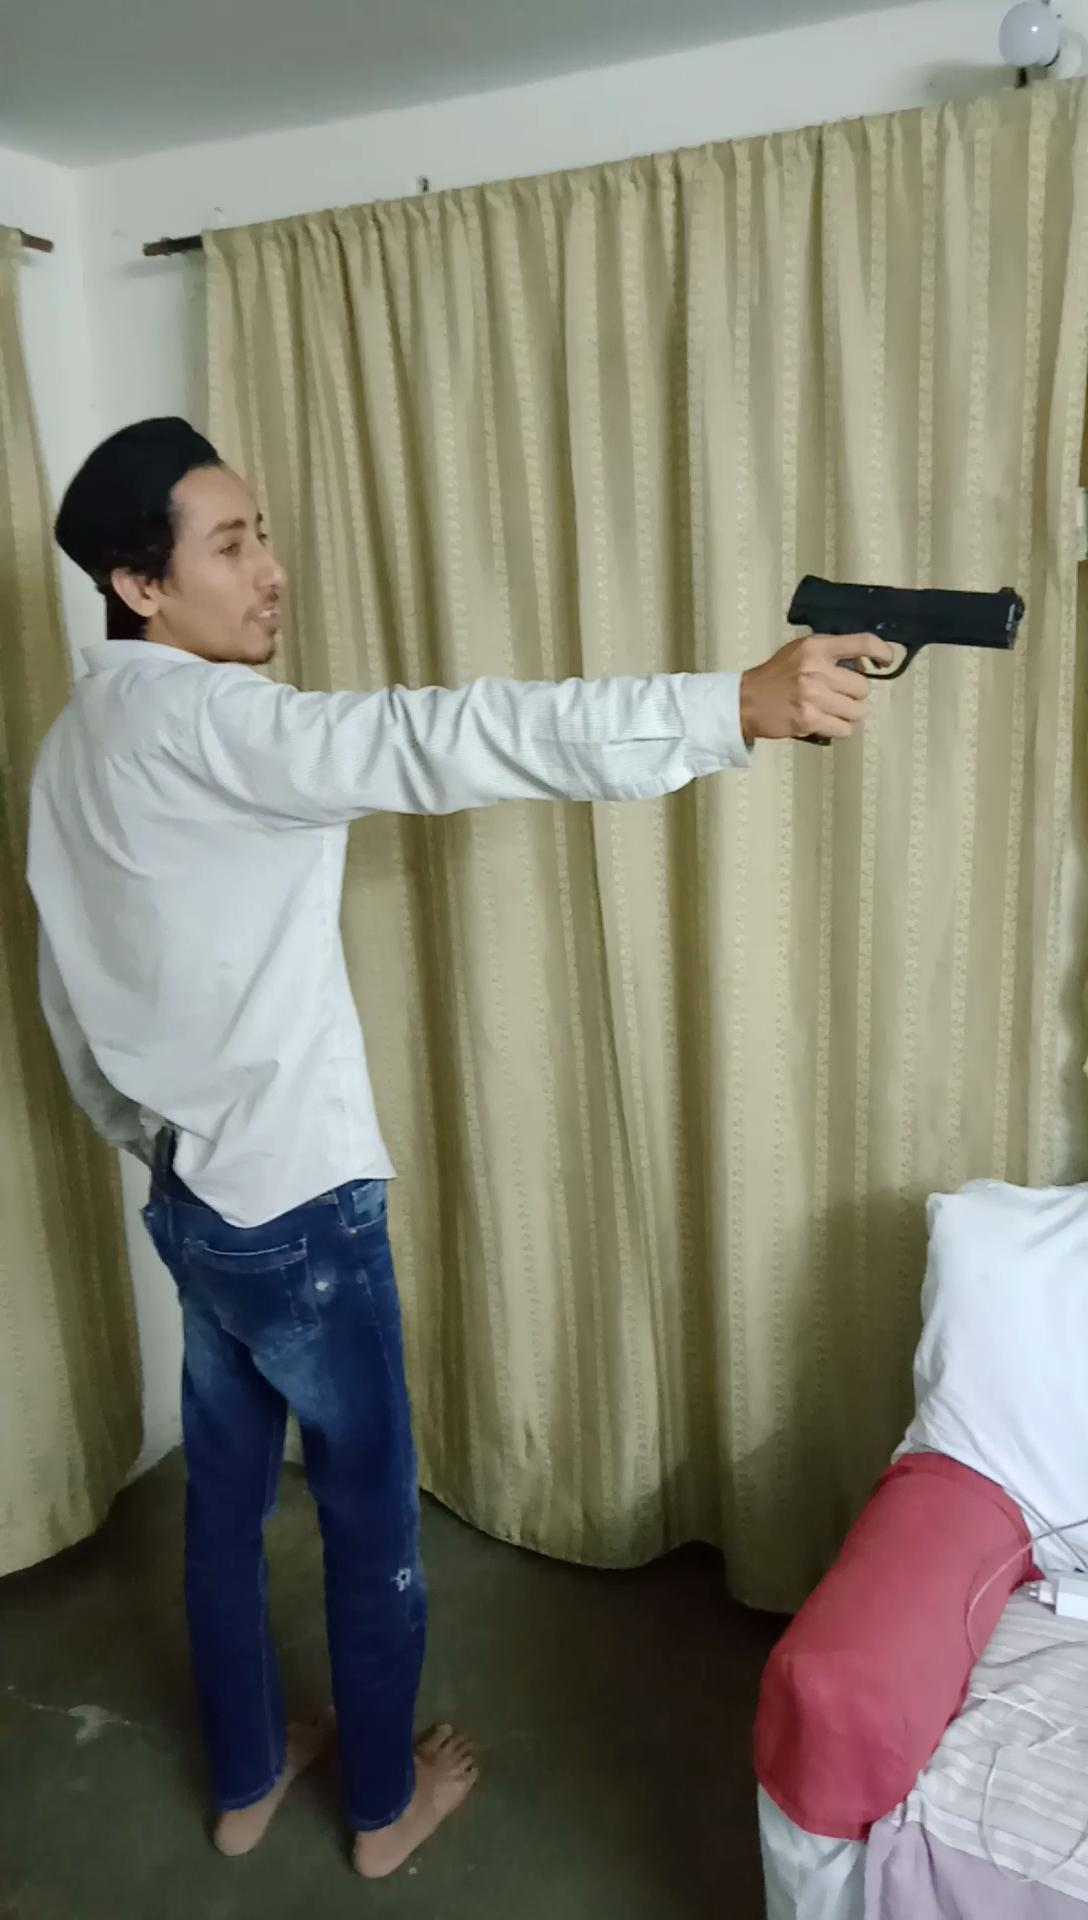criminal: (24, 401, 1046, 1884)
weapon: (768, 560, 1046, 760)
